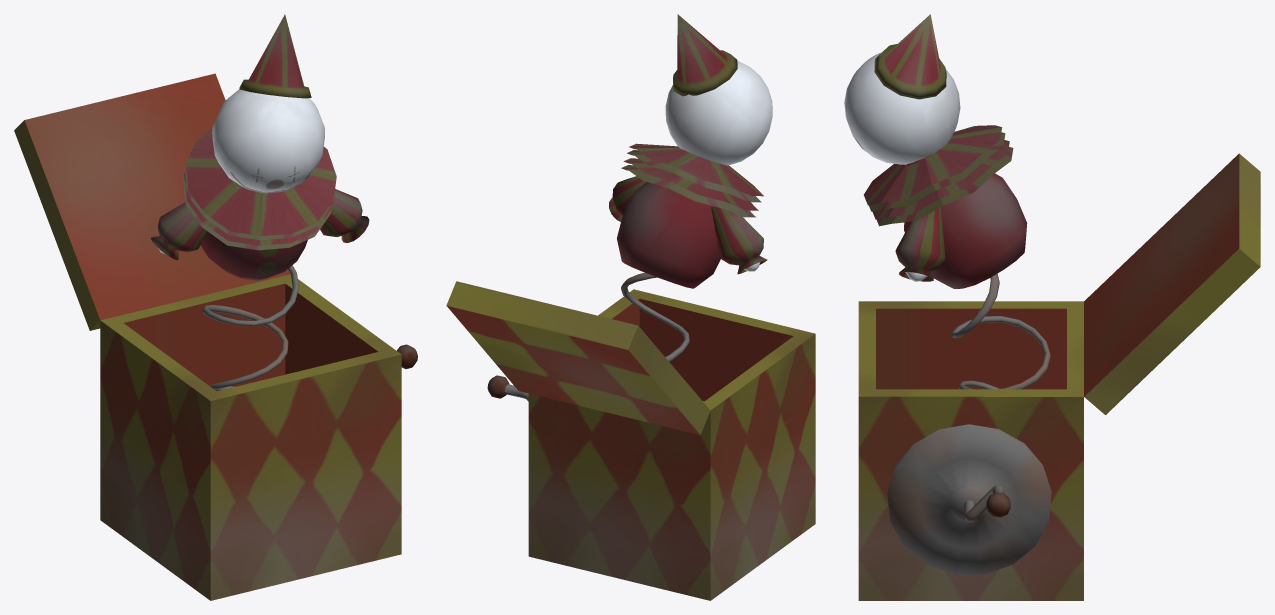
Rendered from vieteri_pelle 1.fbx.
3 views of the same model, side by side, from view 1: azimuth 30°, elevation 25°; view 2: azimuth 150°, elevation 25°; view 3: azimuth 270°, elevation 25° (orthographic). The views are drawn at different scales.
Visible parts, largest first — view 1: Cube, Sphere, Sphere.001, Cone.002, Cone.004, Cube.001, Circle.001, Sphere.003, Sphere.004, Sphere.002; view 2: Cube, Cube.001, Sphere, Cone.004, Cone.002, Sphere.001, Sphere.003, Sphere.004, Sphere.002, Circle.001, Circle; view 3: Cube, Circle, Sphere, Cube.001, Sphere.001, Cone.004, Cone.002, Circle.001, Sphere.003, Sphere.004, Sphere.002.
Part boxes in pixels (x1,y1,x2,y2): Cube: [14, 73, 401, 600]; Sphere: [158, 89, 324, 254]; Sphere.001: [185, 127, 336, 235]; Cone.002: [151, 189, 369, 260]; Cone.004: [239, 14, 311, 98]; Cube.001: [200, 232, 307, 280]; Circle.001: [202, 265, 298, 391]; Sphere.003: [184, 171, 332, 245]; Sphere.004: [183, 177, 331, 250]; Sphere.002: [185, 167, 333, 240]; Cube: [446, 281, 815, 600]; Cube.001: [617, 182, 720, 288]; Sphere: [665, 61, 772, 271]; Cone.004: [673, 14, 737, 96]; Cone.002: [609, 176, 767, 274]; Sphere.001: [629, 143, 763, 196]; Sphere.003: [623, 158, 758, 210]; Sphere.004: [621, 165, 755, 217]; Sphere.002: [627, 150, 761, 202]; Circle.001: [621, 273, 689, 361]; Circle: [487, 375, 528, 401]; Cube: [858, 153, 1260, 600]; Circle: [887, 424, 1051, 574]; Sphere: [844, 52, 960, 281]; Cube.001: [901, 155, 1027, 288]; Sphere.001: [864, 125, 1001, 205]; Cone.004: [874, 14, 946, 99]; Cone.002: [895, 207, 945, 281]; Circle.001: [951, 273, 1050, 389]; Sphere.003: [872, 140, 1009, 219]; Sphere.004: [876, 147, 1013, 226]; Sphere.002: [869, 132, 1005, 211].
Size of the model in its own units: 83.77 by 155 by 107.
Materials: 11 (11 with a texture image).
